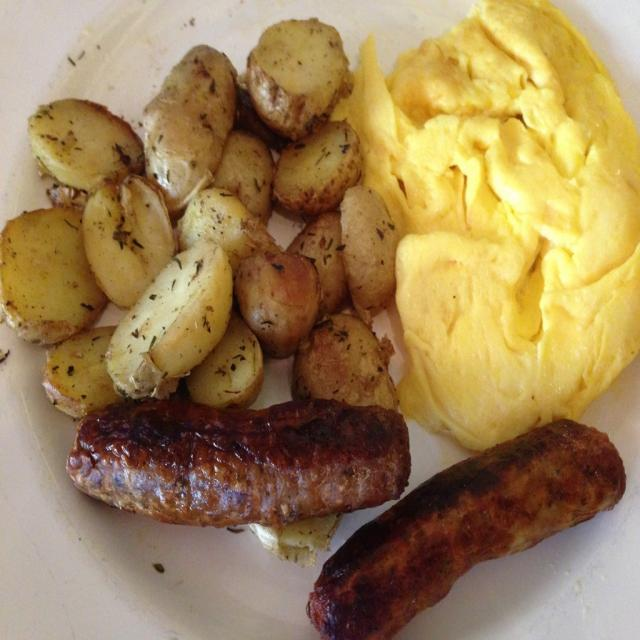Potato: (0, 13, 399, 410), (229, 230, 319, 352)
